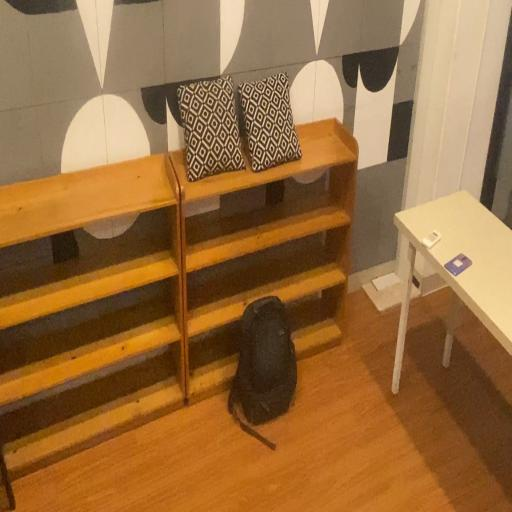bantal: (177, 73, 246, 184), (239, 69, 303, 172)
hp: (443, 248, 476, 280)
lemari: (0, 151, 187, 493)
meja: (389, 184, 512, 413)
remote AC: (421, 225, 442, 253)
tas ransel: (228, 293, 300, 450)
